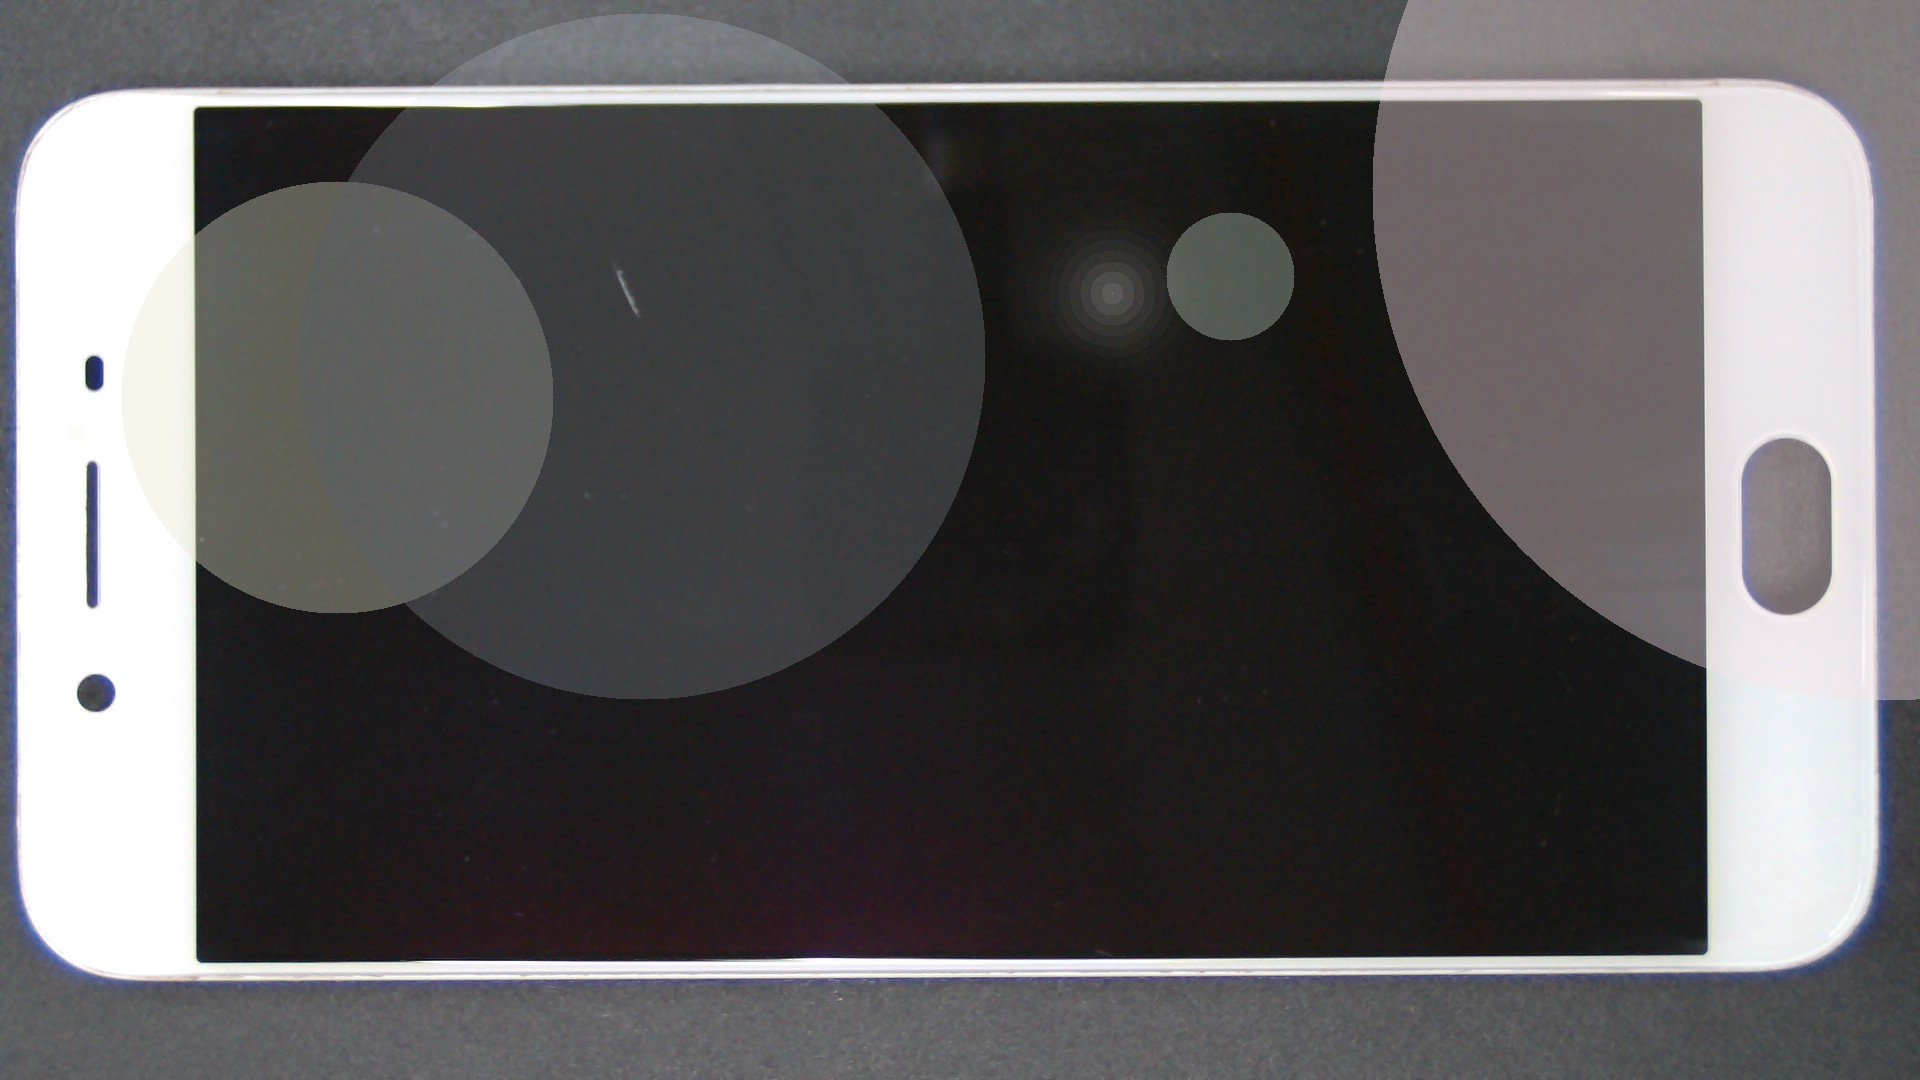oil: (306, 132, 919, 400)
